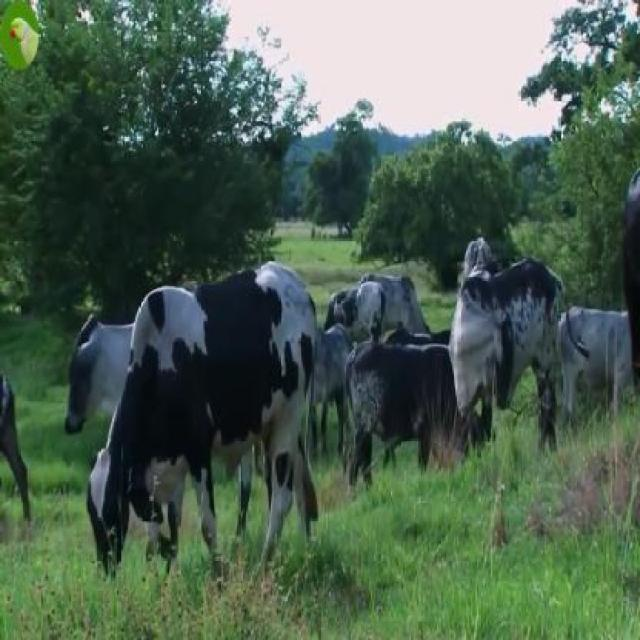Cow: (86, 264, 312, 582)
